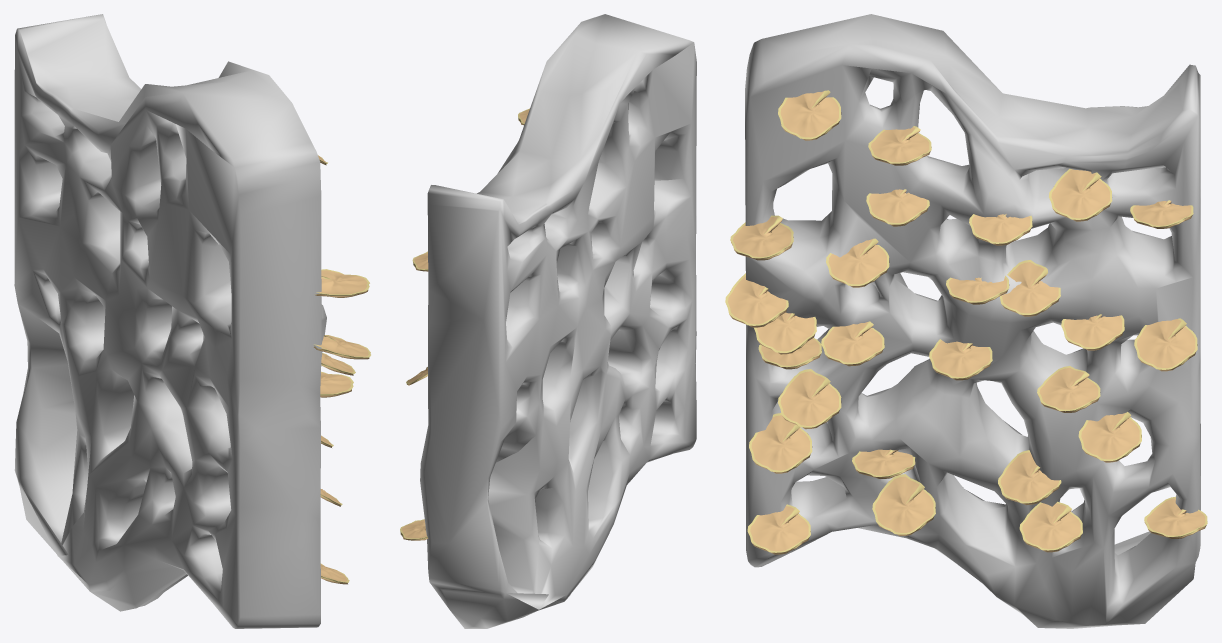
The model's file is CoralWall.fbx.
3 renders of one model, left to right at view 1: azimuth 30°, elevation 25°; view 2: azimuth 150°, elevation 25°; view 3: azimuth 270°, elevation 25°, orthographic. The views are drawn at different scales.
Visible parts, largest first — view 1: Cube.033; view 2: Cube.033; view 3: Cube.033.
Boxes of the visible parts, x1=… form: Cube.033: x1=14, y1=14, x2=370, y2=628; Cube.033: x1=400, y1=14, x2=696, y2=628; Cube.033: x1=725, y1=14, x2=1207, y2=628.
Bounding box in the file's own units: 799 × 2948 × 2150.
